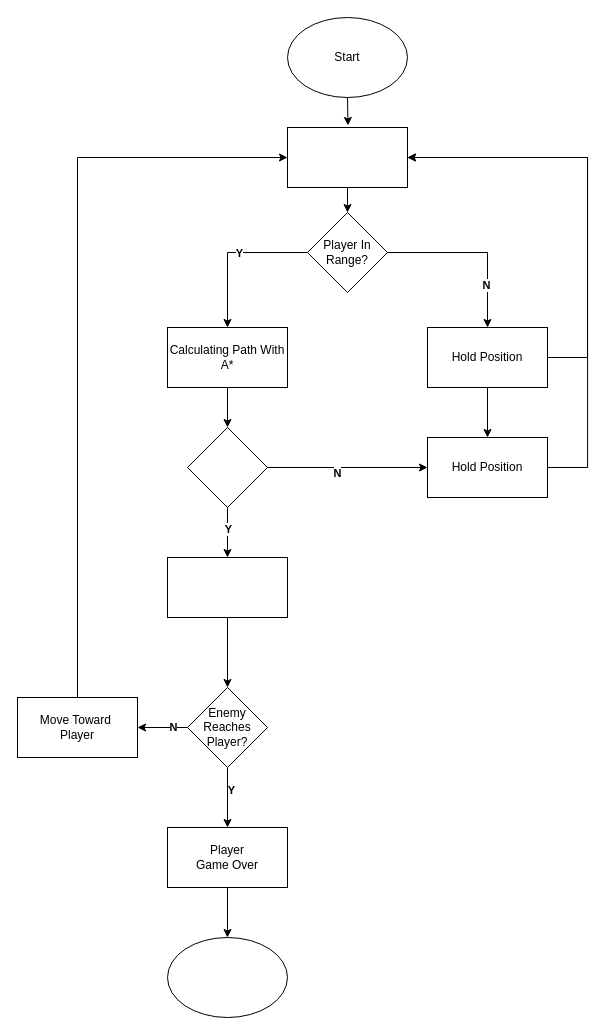
Some shapes in this 614 by 1035 pixel diagram are drawn without their labels. The shapes that lost their labels are listed below. From the top down, each one's box as (x1, y1, x2, y2) in pixels, then its label:
(286, 126, 408, 188): Read Player Position
(186, 426, 268, 508): Path Found?
(166, 556, 288, 618): Move To Next WayPoint
(166, 936, 288, 1018): End
